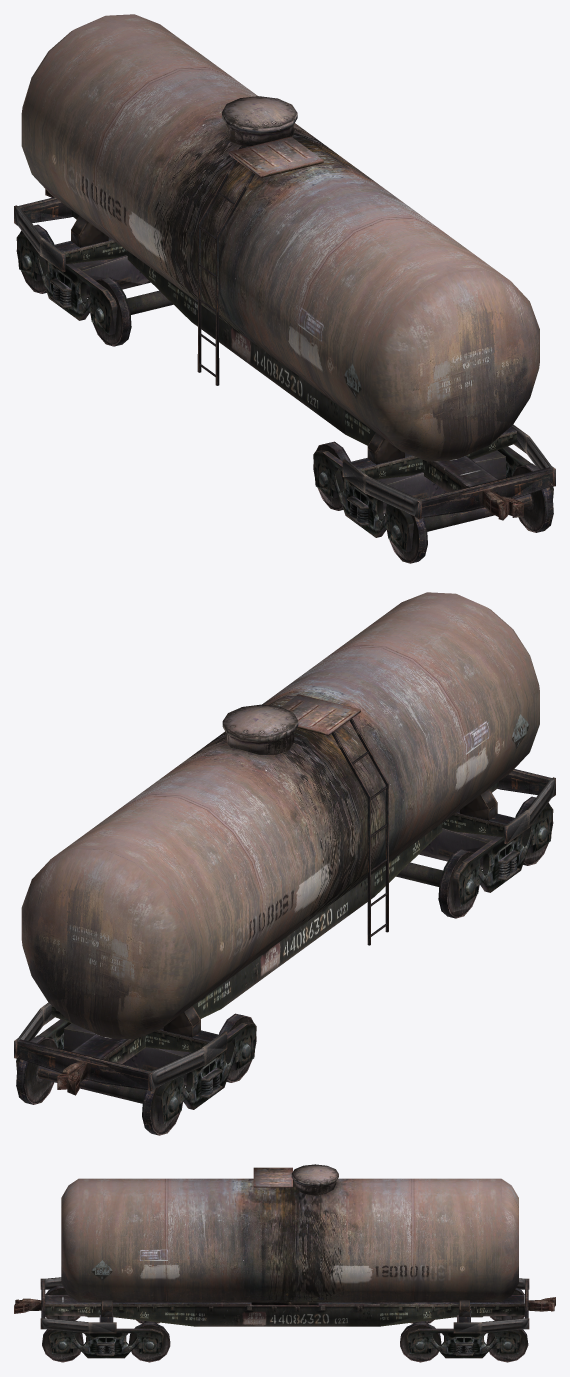
The model's file is train_vagon_cisterna.fbx.
The picture shows the model from 3 angles, top to bottom: view 1: azimuth 30°, elevation 25°; view 2: azimuth 150°, elevation 25°; view 3: azimuth 270°, elevation 25°; orthographic projection. The views are drawn at different scales.
Parts seen in each view (by area): view 1: train_vagon_cisterna.object.001; view 2: train_vagon_cisterna.object.001; view 3: train_vagon_cisterna.object.001.
Part boxes in pixels (x1,y1,x2,y2): train_vagon_cisterna.object.001: (14,14,555,563); train_vagon_cisterna.object.001: (14,592,555,1135); train_vagon_cisterna.object.001: (14,1164,555,1362).
Bounding box in the file's own units: 262 × 421 × 1198.
